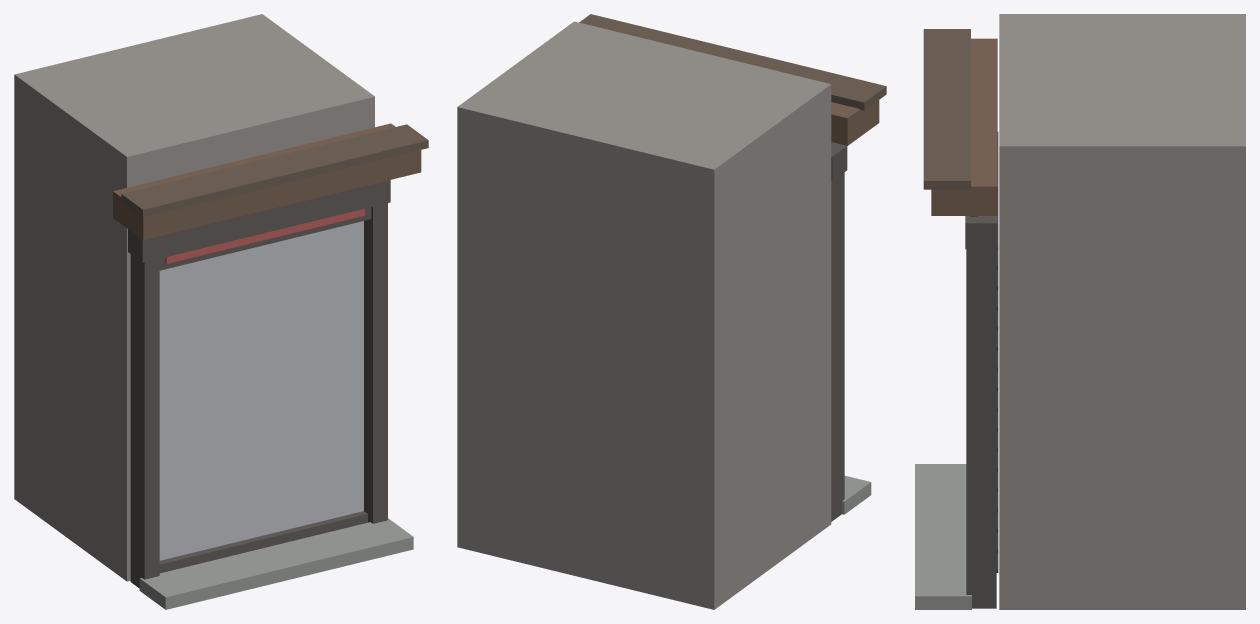
Rendered from prop_shutter_shop_silver.glb.
The picture shows the model from 3 angles, left to right: view 1: azimuth 30°, elevation 25°; view 2: azimuth 150°, elevation 25°; view 3: azimuth 270°, elevation 25°; orthographic projection. The views are drawn at different scales.
Visible parts, largest first — view 1: shutter_shop_silver; view 2: shutter_shop_silver; view 3: shutter_shop_silver.
Boxes of the visible parts, x1,y1,x2,y2 form: shutter_shop_silver: (14, 14, 428, 609); shutter_shop_silver: (457, 14, 886, 609); shutter_shop_silver: (915, 14, 1245, 609).
Size of the model in its own units: 3.8 by 5.4 by 3.49.
